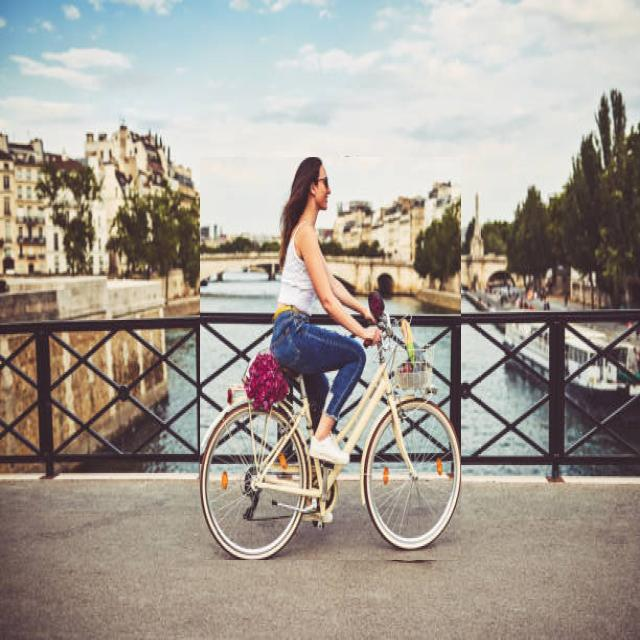bicycle: (200, 158, 461, 560)
